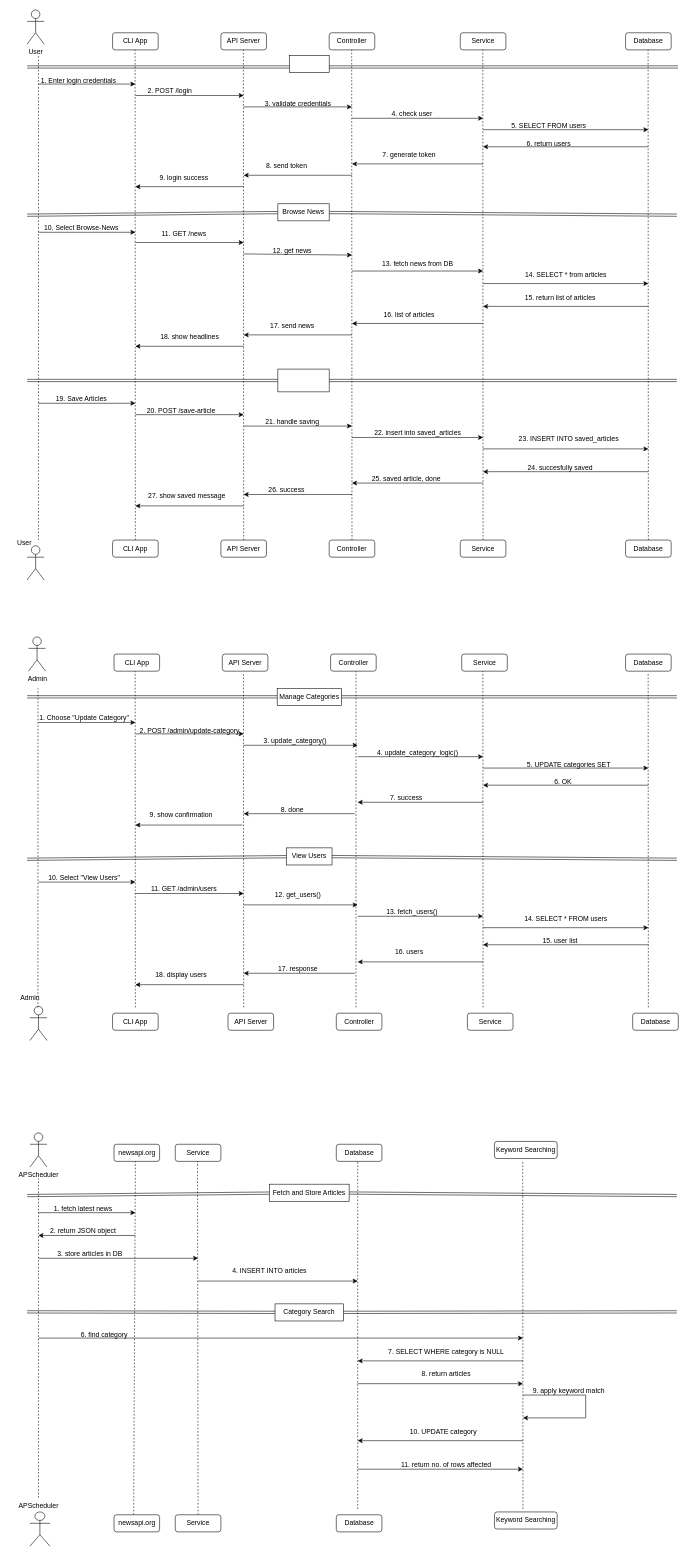
Some shapes in this 688 by 1556 pixel diagram are drawn without their labels. Here are the shapes that lost their labels. From the top down, the box of each, then its label:
(289, 55, 329, 73): Login
(277, 369, 329, 392): Save Articles
